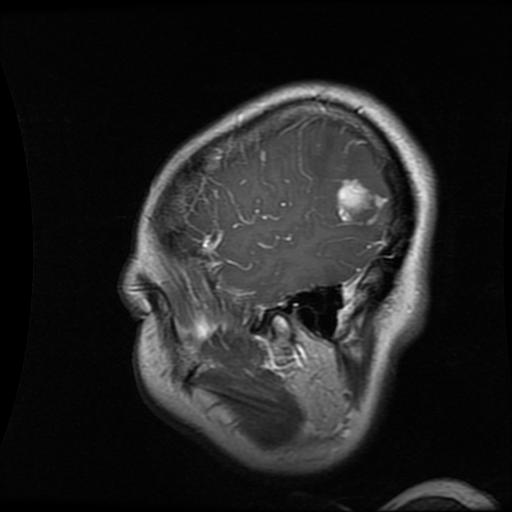Gliomia_tumour: (338, 177, 390, 222)
